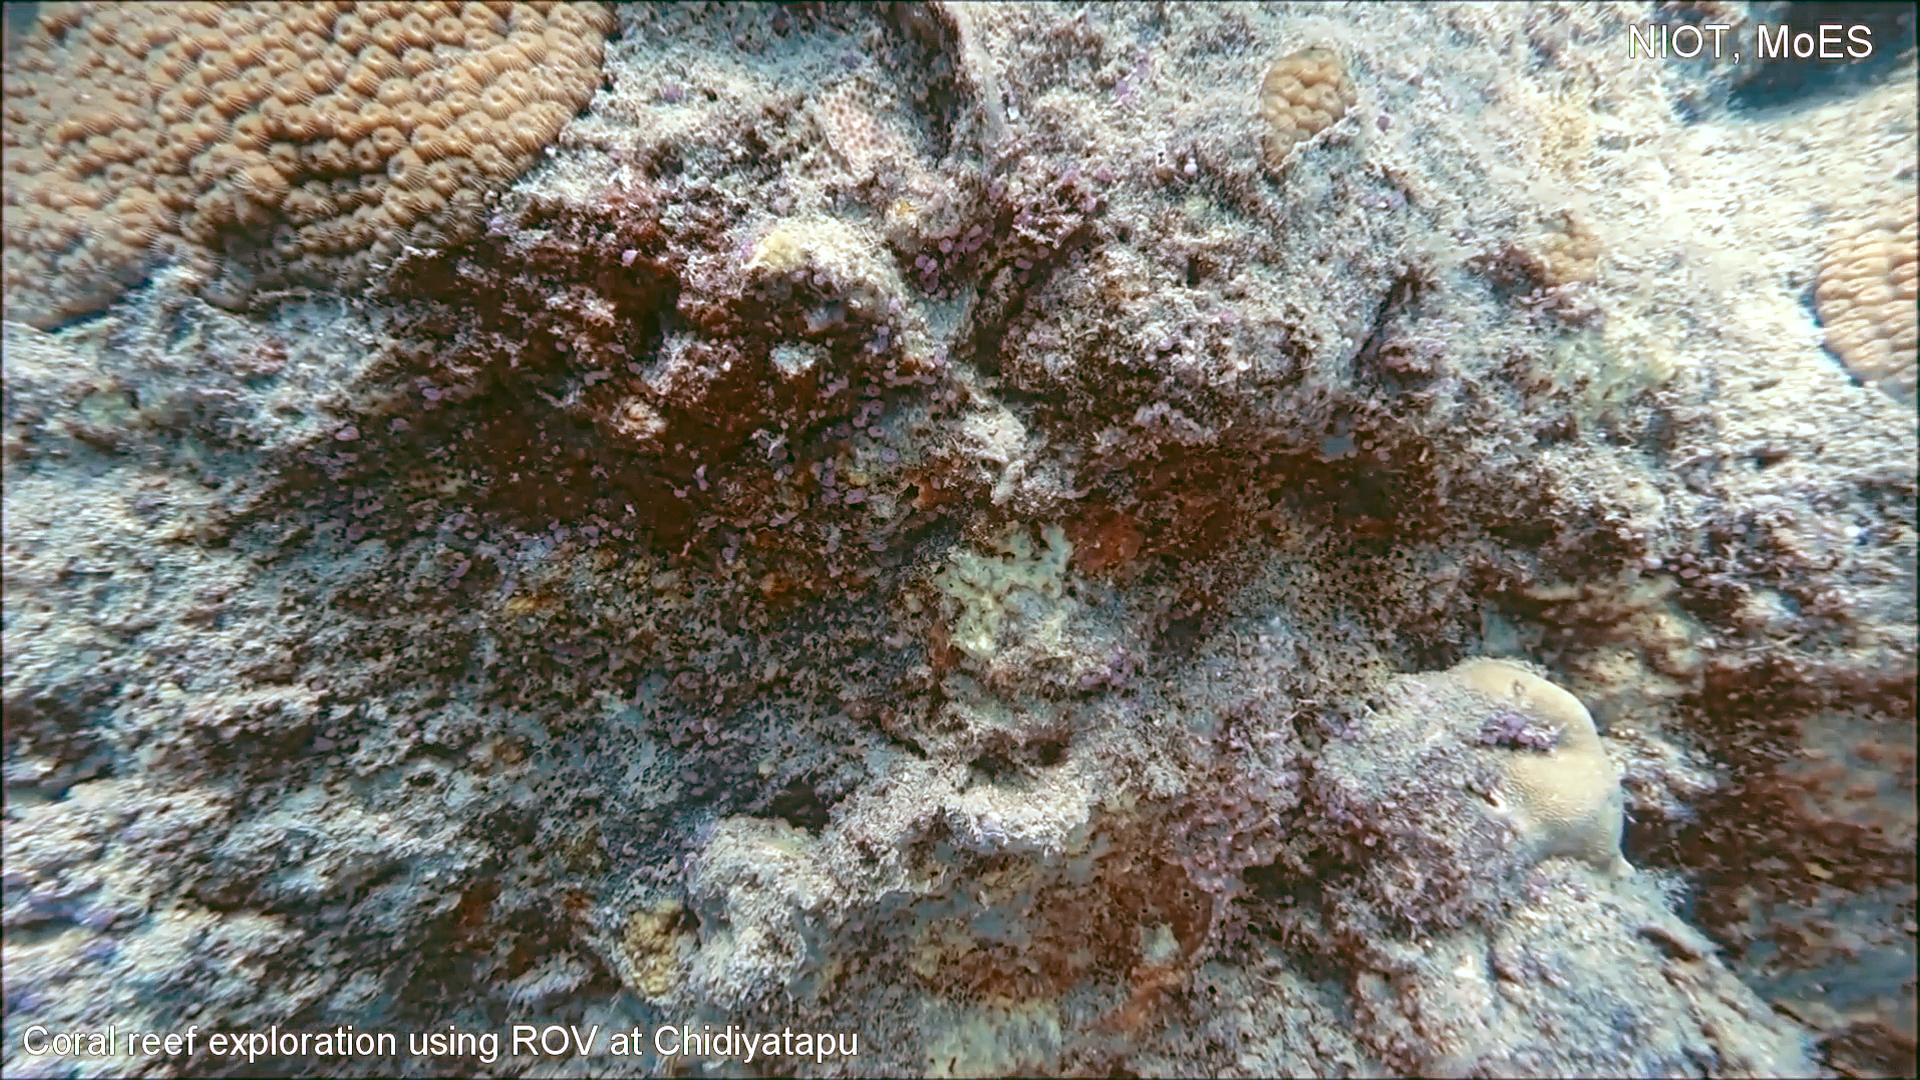Montastraea: (0, 0, 625, 345), (1800, 177, 1920, 448), (1247, 34, 1370, 191)
